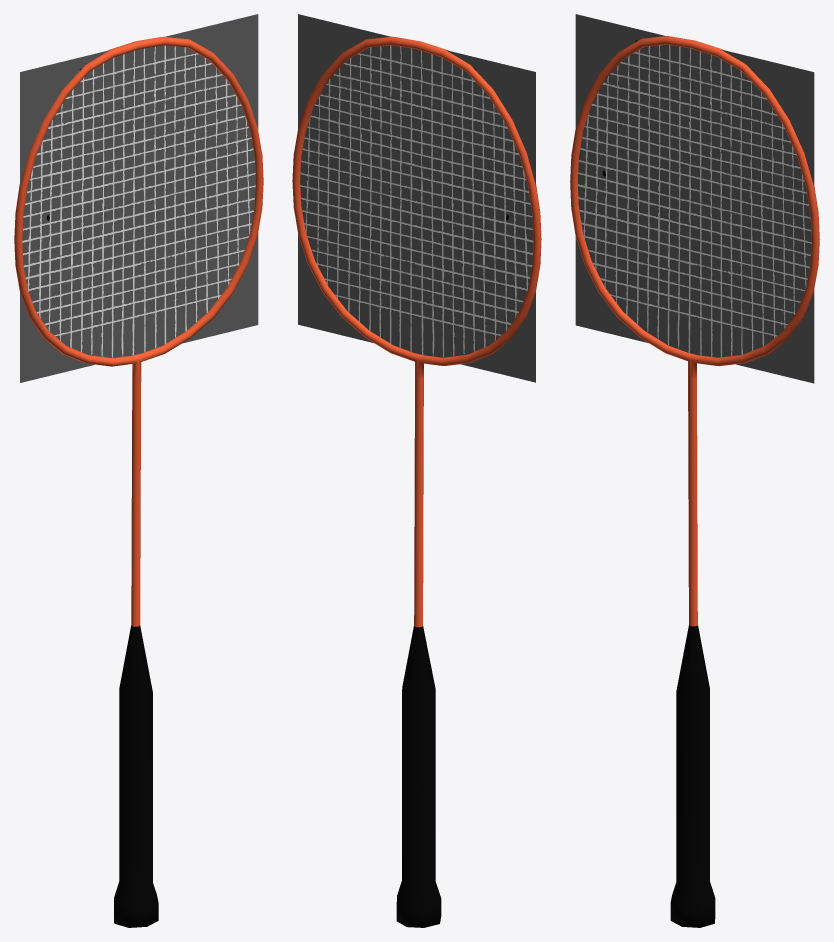
Rendered from racket.glb.
3 views of the same model, side by side, from view 1: azimuth 30°, elevation 25°; view 2: azimuth 150°, elevation 25°; view 3: azimuth 330°, elevation 25° (orthographic).
Visible parts, largest first — view 1: Torus.001; view 2: Torus.001; view 3: Torus.001.
Part boxes in pixels (bbox=[...]): Torus.001: bbox=[14, 14, 263, 927]; Torus.001: bbox=[292, 14, 541, 927]; Torus.001: bbox=[570, 14, 819, 927].
Size of the model in its own units: 1.88 by 6.35 by 0.301.
Materials: 3 (1 with a texture image).
